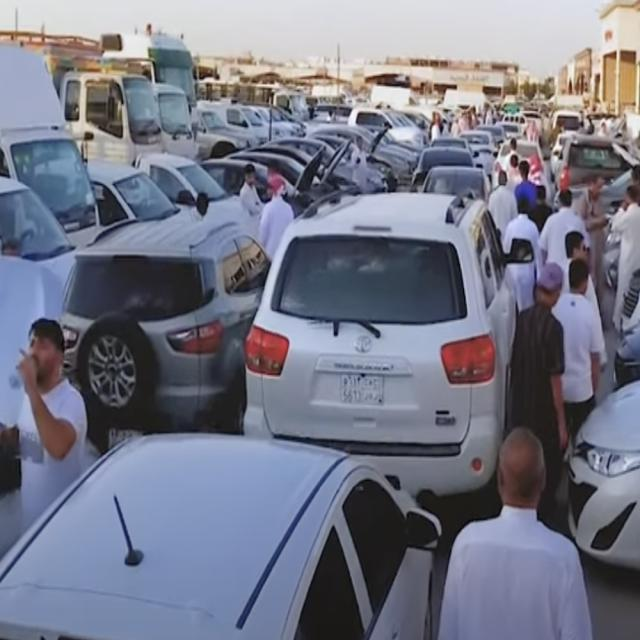license_plate: (338, 373, 386, 408), (106, 428, 139, 454)
